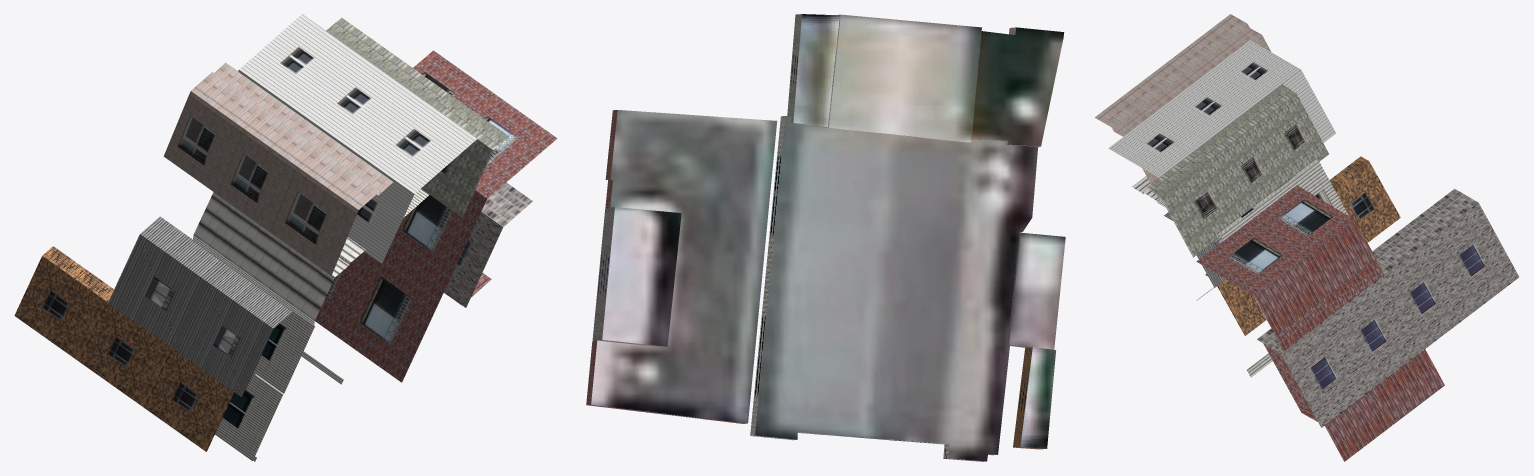
3 renders of one model, left to right at view 1: azimuth 30°, elevation 25°; view 2: azimuth 150°, elevation 25°; view 3: azimuth 270°, elevation 25°, orthographic. The views are drawn at different scales.
Bounding box in the file's own units: 22.7 × 18.74 × 21.56.
Materials: 28 (28 with a texture image).
